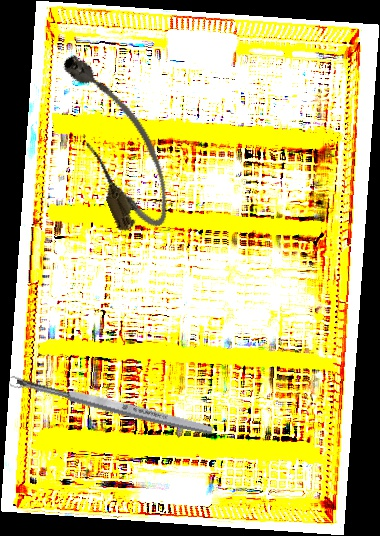Cannula: (51, 39, 182, 241)
Pusher: (15, 377, 161, 427)
Surgical Spoon: (7, 373, 215, 438)
